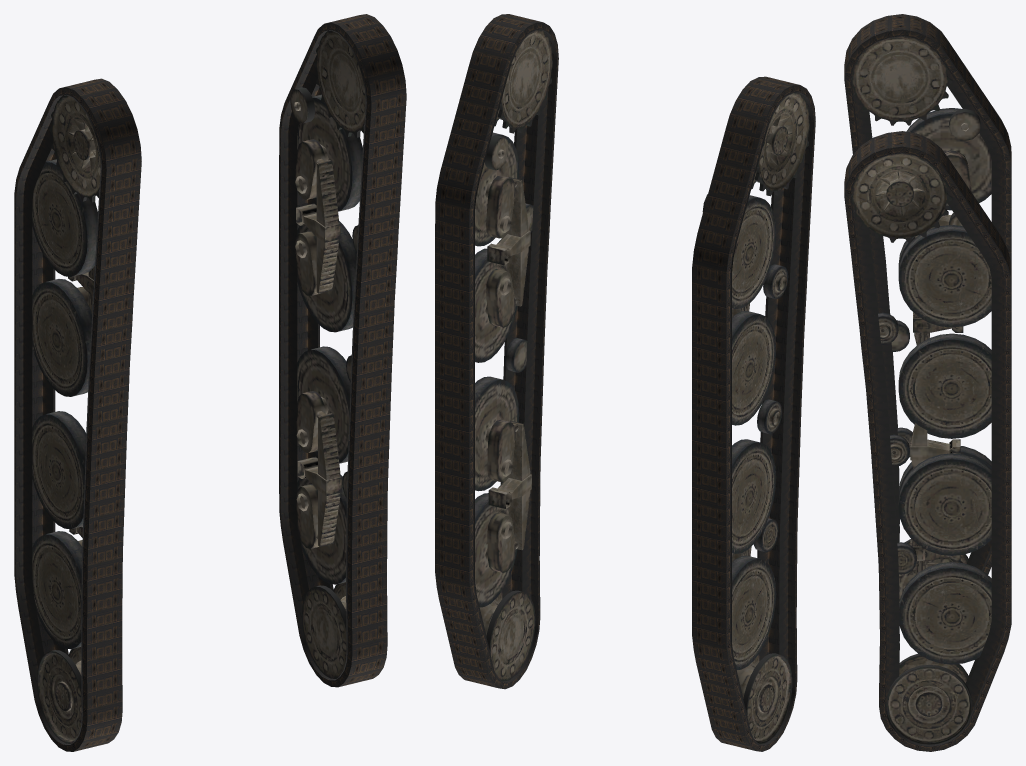
The model's file is Chassis.glb.
The picture shows the model from 3 angles, left to right: view 1: azimuth 30°, elevation 25°; view 2: azimuth 150°, elevation 25°; view 3: azimuth 270°, elevation 25°; orthographic projection. The views are drawn at different scales.
Parts seen in each view (by area): view 1: set_1_group_0, set_0_group_0, set_3_group_0, set_2_group_0; view 2: set_1_group_0, set_0_group_0, set_3_group_0, set_2_group_0; view 3: set_3_group_0, set_0_group_0, set_2_group_0, set_1_group_0.
Boxes of the visible parts, <box> form: set_1_group_0: <box>14,78,141,751</box>; set_0_group_0: <box>279,14,406,687</box>; set_3_group_0: <box>290,30,365,678</box>; set_2_group_0: <box>32,95,100,743</box>; set_1_group_0: <box>692,76,815,751</box>; set_0_group_0: <box>435,14,558,689</box>; set_3_group_0: <box>475,30,552,681</box>; set_2_group_0: <box>702,92,809,743</box>; set_3_group_0: <box>851,153,991,744</box>; set_0_group_0: <box>844,131,1011,751</box>; set_2_group_0: <box>851,36,991,602</box>; set_1_group_0: <box>844,14,1011,574</box>.
Bounding box in the file's own units: 1.98 × 4.16 × 1.04.
Materials: 4 (4 with a texture image).
